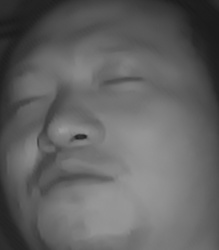blink: (98, 66, 143, 95), (5, 85, 46, 114)
mouth: (33, 155, 117, 197)
